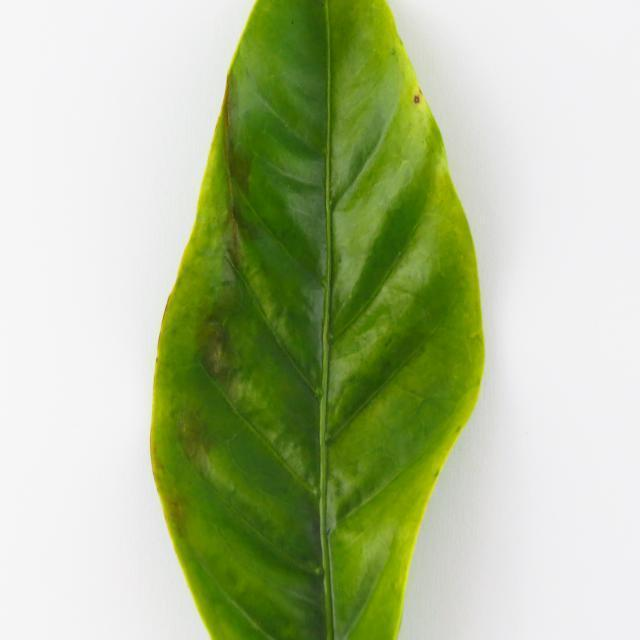DeficienciaNutricional-Manganeso: (151, 2, 484, 638)
